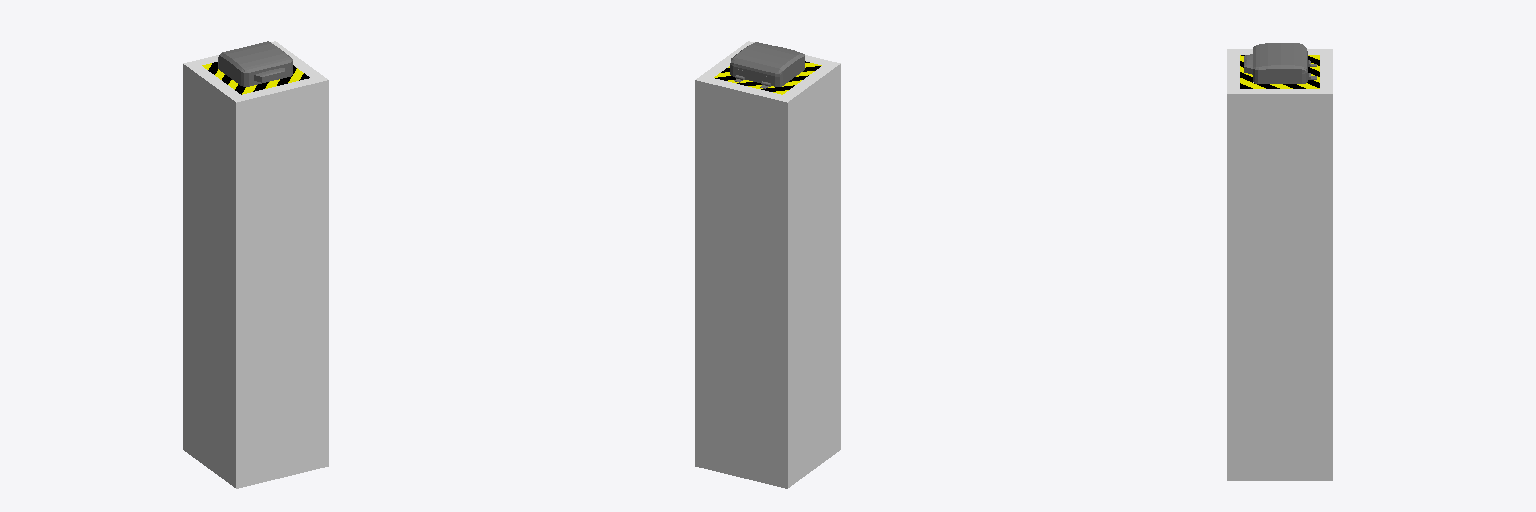
File: LaunchButton.obj
3 renders of one model, left to right at view 1: azimuth 30°, elevation 25°; view 2: azimuth 150°, elevation 25°; view 3: azimuth 270°, elevation 25°, orthographic.
Visible parts, largest first — view 1: Launch_pedastal Launch_pedastal_Grp, Launch_pedastal_Grp Lid_Geo Lid; view 2: Launch_pedastal Launch_pedastal_Grp, Launch_pedastal_Grp Lid_Geo Lid; view 3: Launch_pedastal Launch_pedastal_Grp, Launch_pedastal_Grp Lid_Geo Lid.
Boxes of the visible parts, x1,y1,x2,y2 form: Launch_pedastal Launch_pedastal_Grp: [183, 41, 328, 488]; Launch_pedastal_Grp Lid_Geo Lid: [218, 41, 292, 86]; Launch_pedastal Launch_pedastal_Grp: [695, 41, 840, 488]; Launch_pedastal_Grp Lid_Geo Lid: [730, 42, 804, 86]; Launch_pedastal Launch_pedastal_Grp: [1227, 49, 1332, 480]; Launch_pedastal_Grp Lid_Geo Lid: [1244, 43, 1307, 83].
Size of the model in its own units: 0.1191 by 0.4983 by 0.1191.